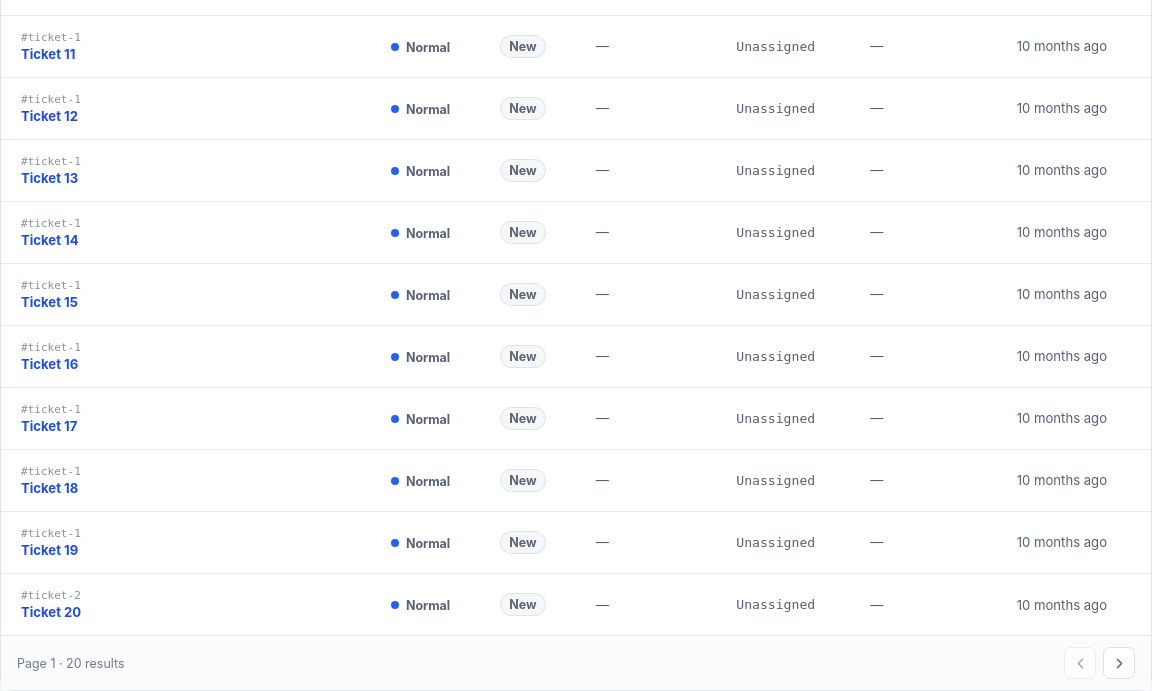
Test: ticket list pagination › disables Next on the last page for exactly 40 tickets
The image size is (1152, 691).
(page scrolled)
Expected: the text "Page 1 · 20 results" is shown, x1=17 y1=656 x2=124 y2=671
Click the button named "Next page" at (1119, 663), box x1=1103 y1=647 x2=1135 y2=679
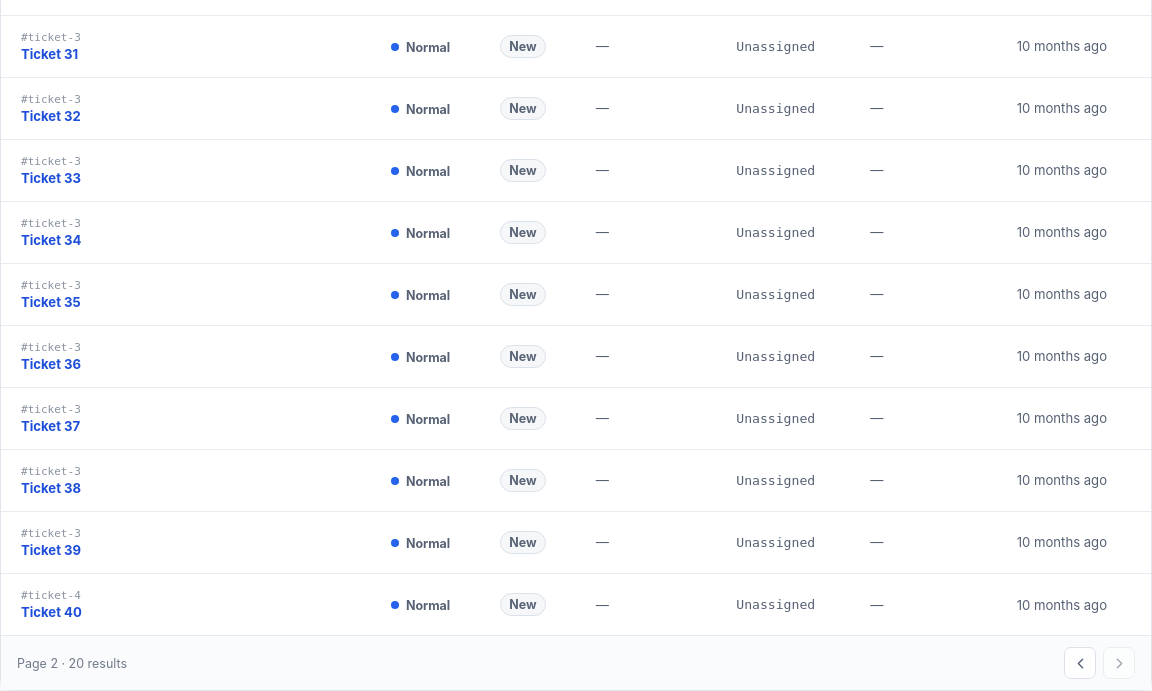
Expected: the button named "Previous page" is enabled, x1=1064 y1=647 x2=1096 y2=679
Expected: the text "Page 2 · 20 results" is shown, x1=17 y1=656 x2=127 y2=671
